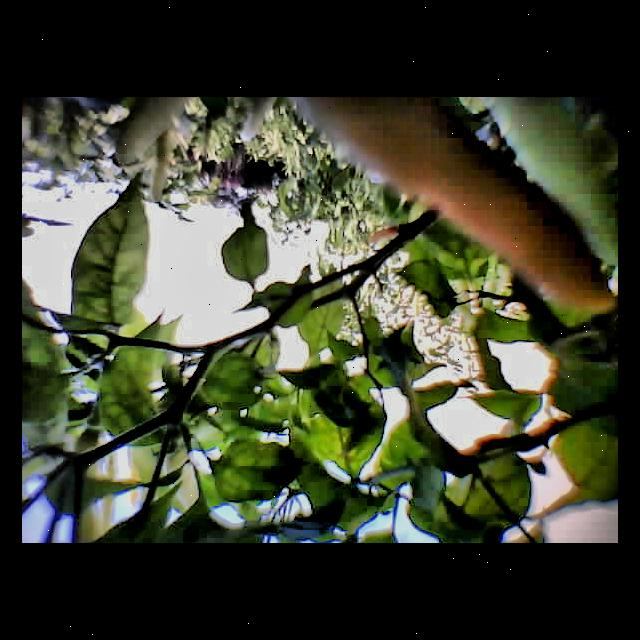Cabai: (342, 97, 514, 236)
